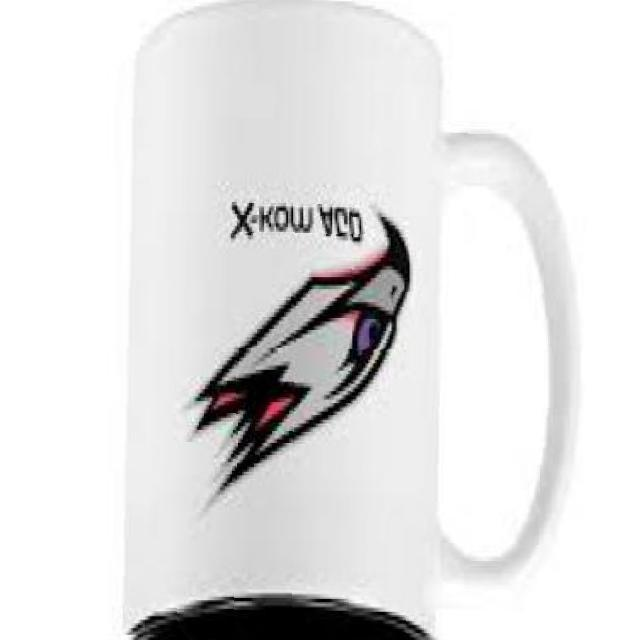cup: (112, 0, 592, 640)
